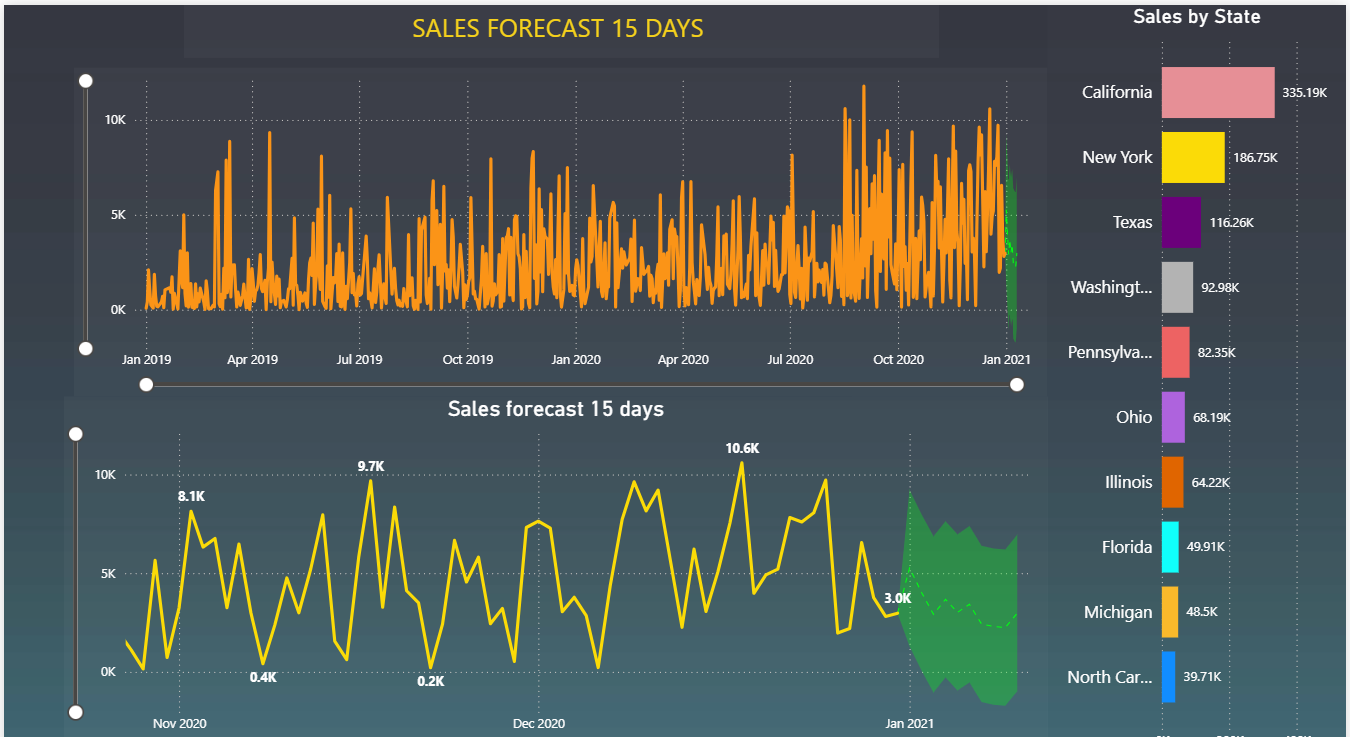

What the dashboard file says about the page in this screenshot:
{"tool":"powerbi","page":{"name":"SalesForecasting","canvas":[1280,720],"ordinal":1},"visuals":[{"type":"lineChart","fields":{"Category":["SuperStore_Sales_Dataset.Order Date"],"Y":["Sum(SuperStore_Sales_Dataset.Sales)"]},"box":[66.7,60,928.3,313.3],"z":0},{"type":"lineChart","title":"Sales forecast 15 days","fields":{"Category":["SuperStore_Sales_Dataset.Order Date"],"Y":["Sum(SuperStore_Sales_Dataset.Sales)"]},"box":[56.7,373.3,938.3,346.7],"z":1000},{"type":"barChart","title":"Sales by State","fields":{"Category":["SuperStore_Sales_Dataset.State"],"Y":["Sum(SuperStore_Sales_Dataset.Sales)"]},"box":[995,0,285,720],"z":2000},{"type":"textbox","box":[171.7,0,720,50],"z":3000}]}

Visuals, with their boxes on the page's 1280x720 design canvas (x1, y1, x2, y2). These are canvas units, not pixel positions in the 1350x737 screenshot, which may show the page scaled, cropped or inside an application window:
lineChart - SuperStore_Sales_Dataset.Order Date x Sum(SuperStore_Sales_Dataset.Sales): pyautogui.locateOnScreen(67, 60, 995, 373)
"Sales forecast 15 days" lineChart: pyautogui.locateOnScreen(57, 373, 995, 720)
"Sales by State" barChart: pyautogui.locateOnScreen(995, 0, 1280, 720)
textbox: pyautogui.locateOnScreen(172, 0, 892, 50)
